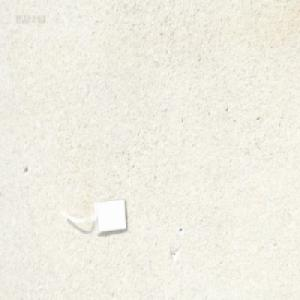LuggageTag: (61, 195, 130, 236)
